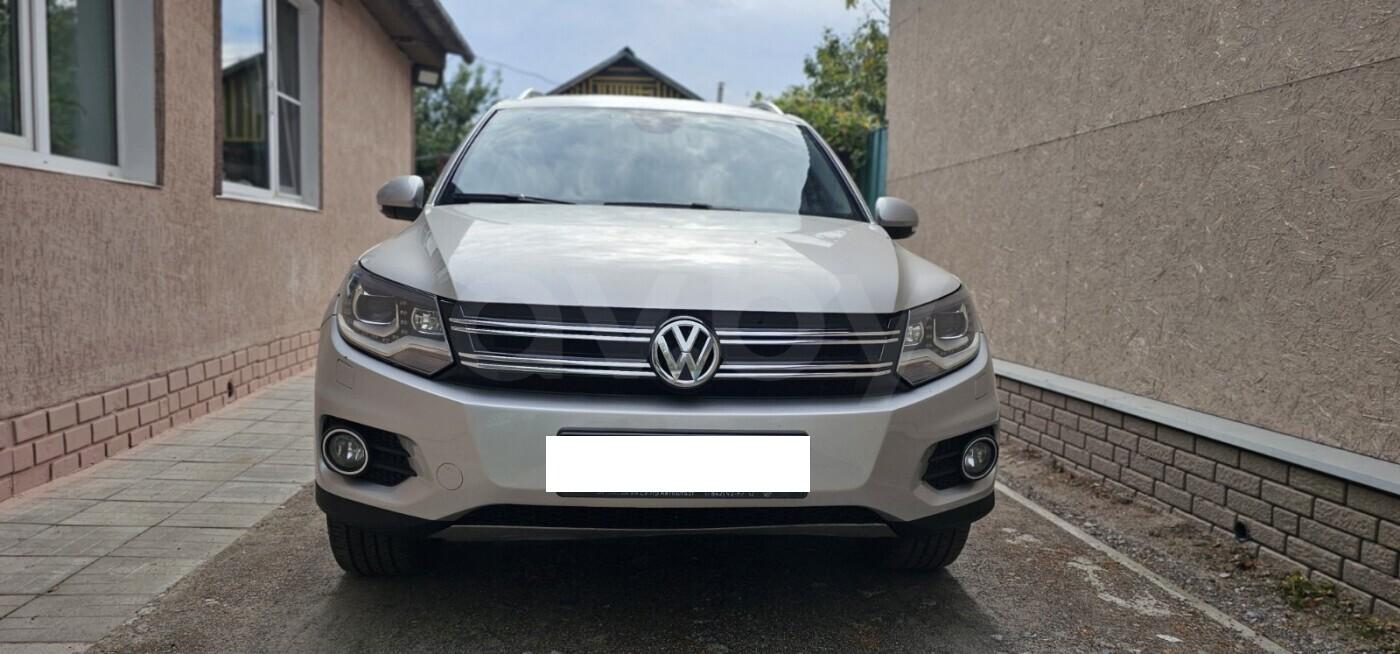Tiguan_2011-2018: (311, 88, 1003, 589)
